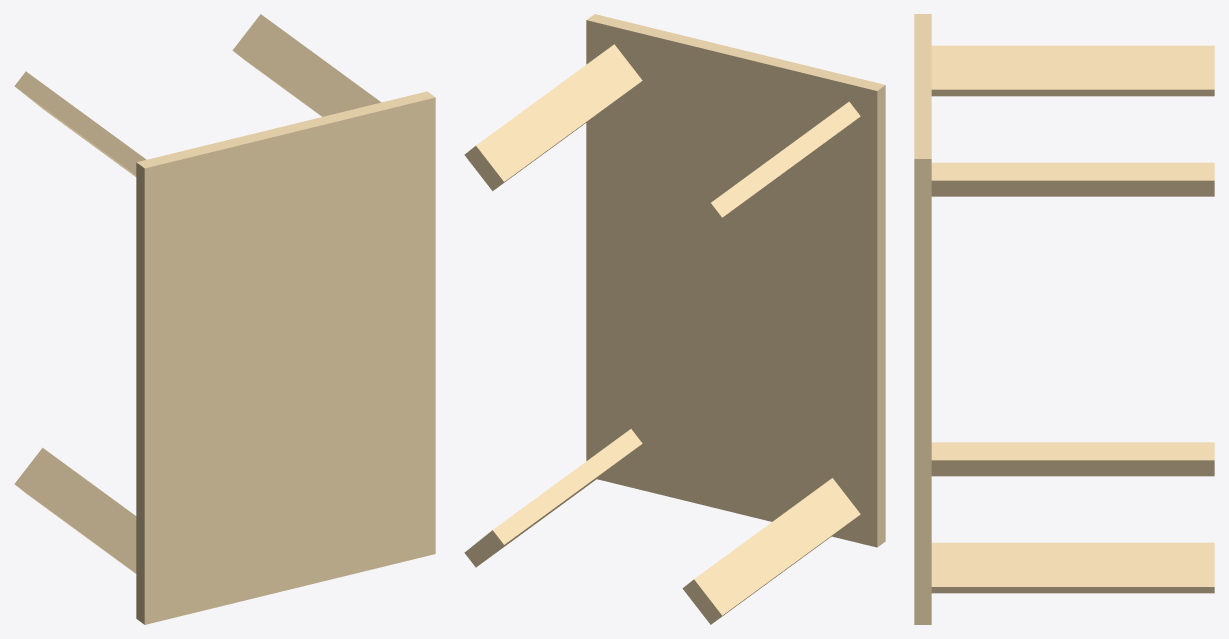
The model's file is nil_link_mesh.dae.
The picture shows the model from 3 angles, left to right: view 1: azimuth 30°, elevation 25°; view 2: azimuth 150°, elevation 25°; view 3: azimuth 270°, elevation 25°; orthographic projection. The views are drawn at different scales.
Visible parts, largest first — view 1: nil_link (×4); view 2: nil_link (×5); view 3: nil_link (×5).
Part boxes in pixels (x1=…): nil_link (×4): x1=14, y1=14, x2=435, y2=624; nil_link (×5): x1=464, y1=14, x2=885, y2=624; nil_link (×5): x1=914, y1=14, x2=1214, y2=624.
Bounding box in the file's own units: 0.8 × 1.2 × 0.7.
